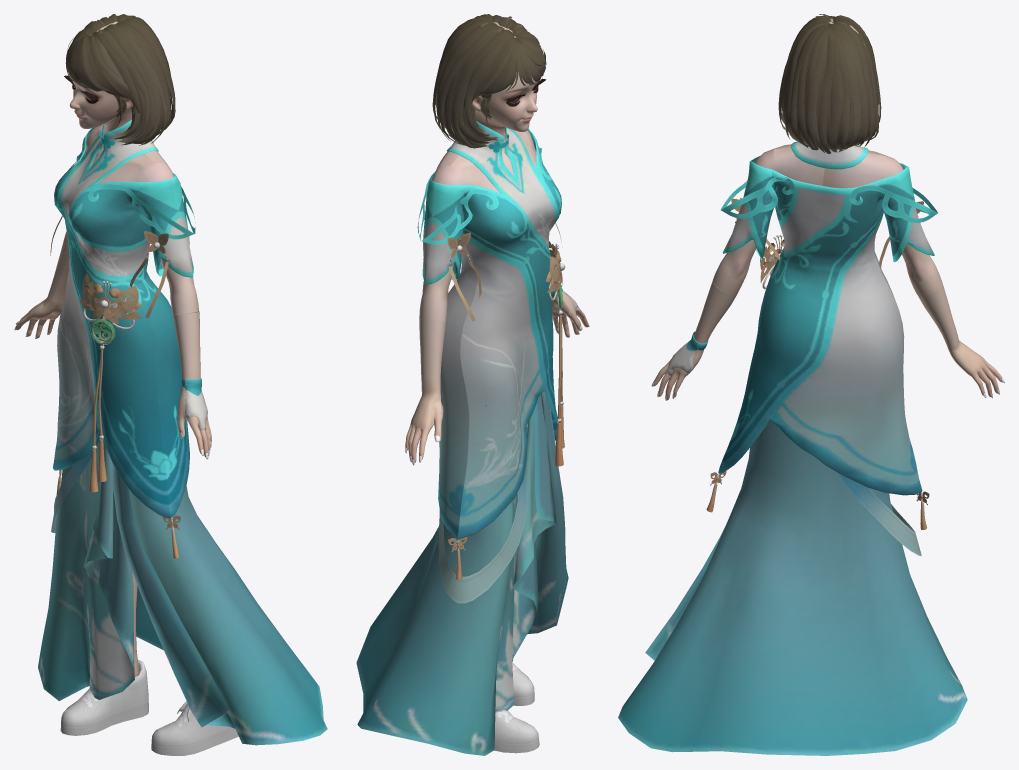
3 renders of one model, left to right at view 1: azimuth 30°, elevation 25°; view 2: azimuth 150°, elevation 25°; view 3: azimuth 270°, elevation 25°, orthographic.
Parts seen in each view (by area): view 1: Nv01_Cloth_02, Nv01_Cloth_01, Nv01_Hair, Nv01_Shoes, Nv01_Hand, Nv01_Body, Nv01_Head; view 2: Nv01_Cloth_01, Nv01_Cloth_02, Nv01_Hair, Nv01_Hand, Nv01_Body, Nv01_Shoes, Nv01_Head; view 3: Nv01_Cloth_02, Nv01_Cloth_01, Nv01_Hair, Nv01_Body, Nv01_Hand.
Part boxes in pixels (box(x1,y1,x2,y2)): Nv01_Cloth_02: box(38, 440, 327, 745); Nv01_Cloth_01: box(50, 120, 207, 558); Nv01_Hair: box(65, 14, 175, 145); Nv01_Shoes: box(60, 660, 238, 755); Nv01_Hand: box(15, 239, 211, 457); Nv01_Body: box(64, 124, 198, 314); Nv01_Head: box(68, 21, 132, 128); Nv01_Cloth_01: box(417, 121, 577, 603); Nv01_Cloth_02: box(356, 391, 568, 755); Nv01_Hair: box(432, 14, 546, 148); Nv01_Hand: box(405, 282, 588, 462); Nv01_Body: box(419, 130, 536, 321); Nv01_Shoes: box(494, 658, 539, 753); Nv01_Head: box(471, 22, 540, 131); Nv01_Cloth_02: box(618, 420, 967, 755); Nv01_Cloth_01: box(666, 141, 937, 555); Nv01_Hair: box(778, 14, 881, 153); Nv01_Body: box(713, 144, 942, 296); Nv01_Hand: box(653, 280, 1002, 400).
Bounding box in the file's own units: 49.65 × 160 × 79.75.
